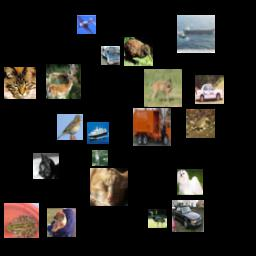airplane: (77, 15, 96, 34)
automobile: (172, 200, 204, 232), (195, 75, 224, 104)
bird: (186, 109, 215, 138), (124, 37, 153, 66), (57, 114, 83, 140), (148, 209, 167, 228)
cat: (90, 168, 128, 206), (4, 67, 36, 99), (33, 153, 59, 179)
deer: (144, 69, 182, 107), (46, 64, 81, 99), (92, 150, 108, 166)
dog: (47, 208, 76, 237), (177, 169, 203, 195)
frog: (4, 203, 39, 238)
ship: (177, 15, 215, 53), (87, 122, 109, 144)
truck: (133, 108, 171, 146), (101, 46, 120, 65)
